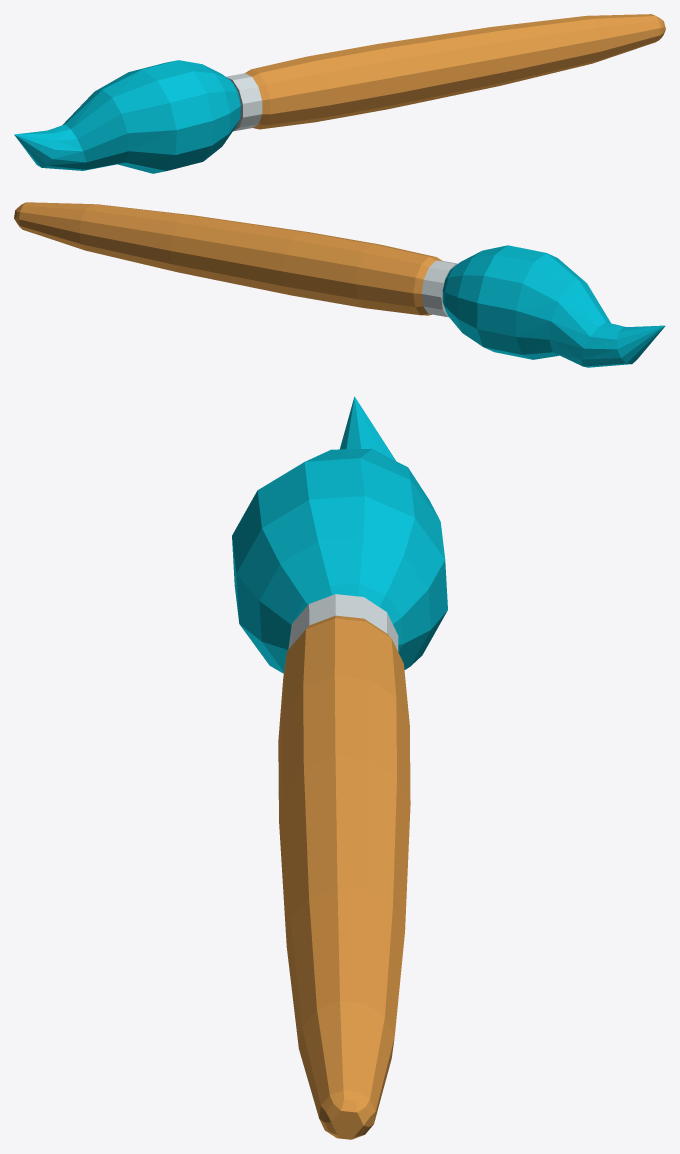
File: Paintbrush.FBX
3 views of the same model, one above another, from view 1: azimuth 30°, elevation 25°; view 2: azimuth 150°, elevation 25°; view 3: azimuth 270°, elevation 25° (orthographic). The views are drawn at different scales.
Visible parts, largest first — view 1: mesh41283942; view 2: mesh41283942; view 3: mesh41283942.
Part boxes in pixels (x1=…): mesh41283942: x1=14, y1=14, x2=665, y2=173; mesh41283942: x1=14, y1=202, x2=665, y2=367; mesh41283942: x1=232, y1=396, x2=447, y2=1139.
Bounding box in the file's own units: 0.8665 × 0.1251 × 0.1254.
